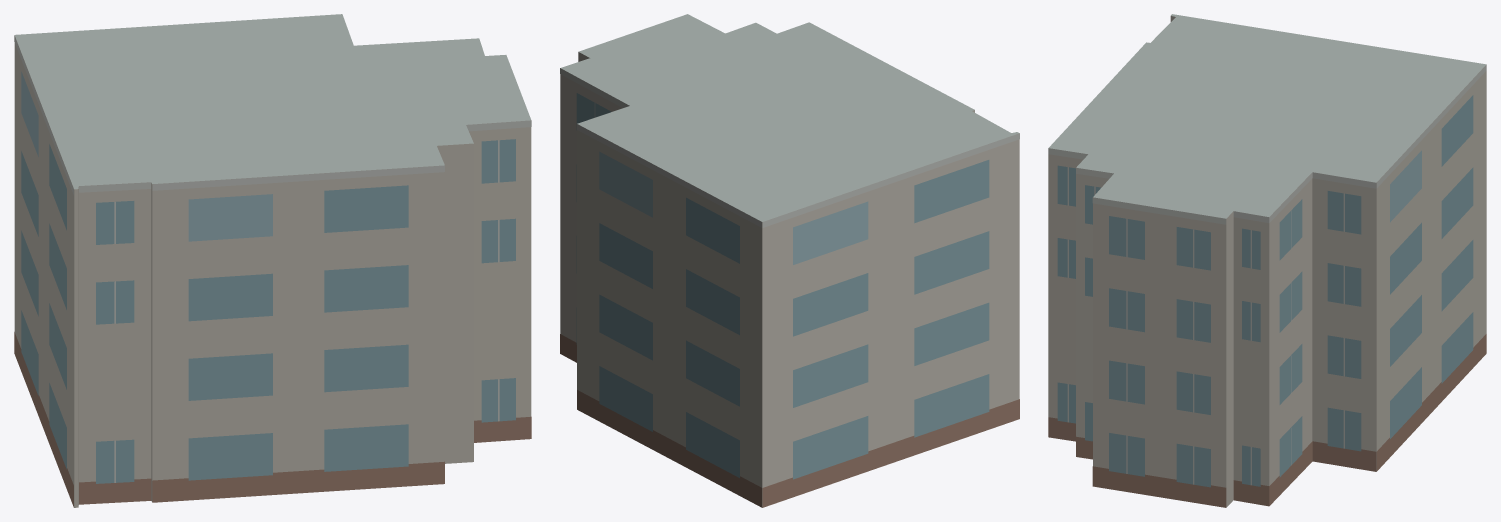
File: survey-upis-32936192.glb
The picture shows the model from 3 angles, left to right: view 1: azimuth 30°, elevation 25°; view 2: azimuth 150°, elevation 25°; view 3: azimuth 270°, elevation 25°; orthographic projection. The views are drawn at different scales.
Parts seen in each view (by area): view 1: survey-upis-32936192.tmp; view 2: survey-upis-32936192.tmp; view 3: survey-upis-32936192.tmp.
Part boxes in pixels (x1,y1,x2,y2): survey-upis-32936192.tmp: (14, 14, 531, 507); survey-upis-32936192.tmp: (560, 14, 1019, 507); survey-upis-32936192.tmp: (1048, 14, 1486, 507).
Size of the model in its own units: 17.62 by 11.6 by 15.94.
